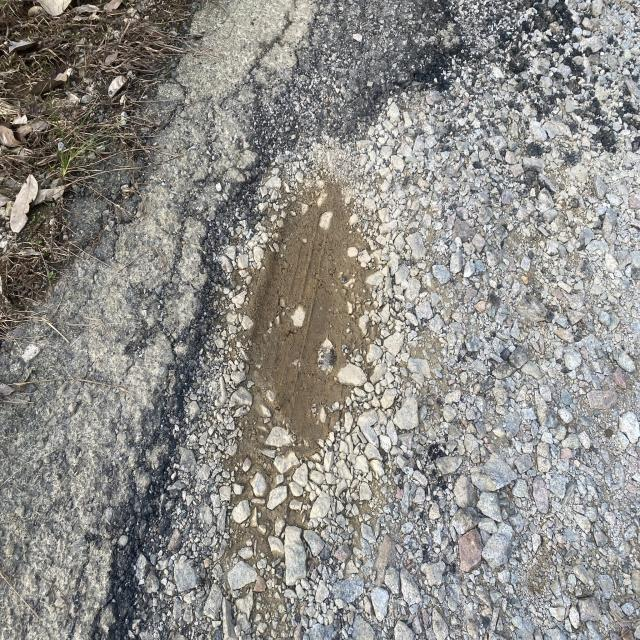Pothole: (166, 73, 409, 573)
